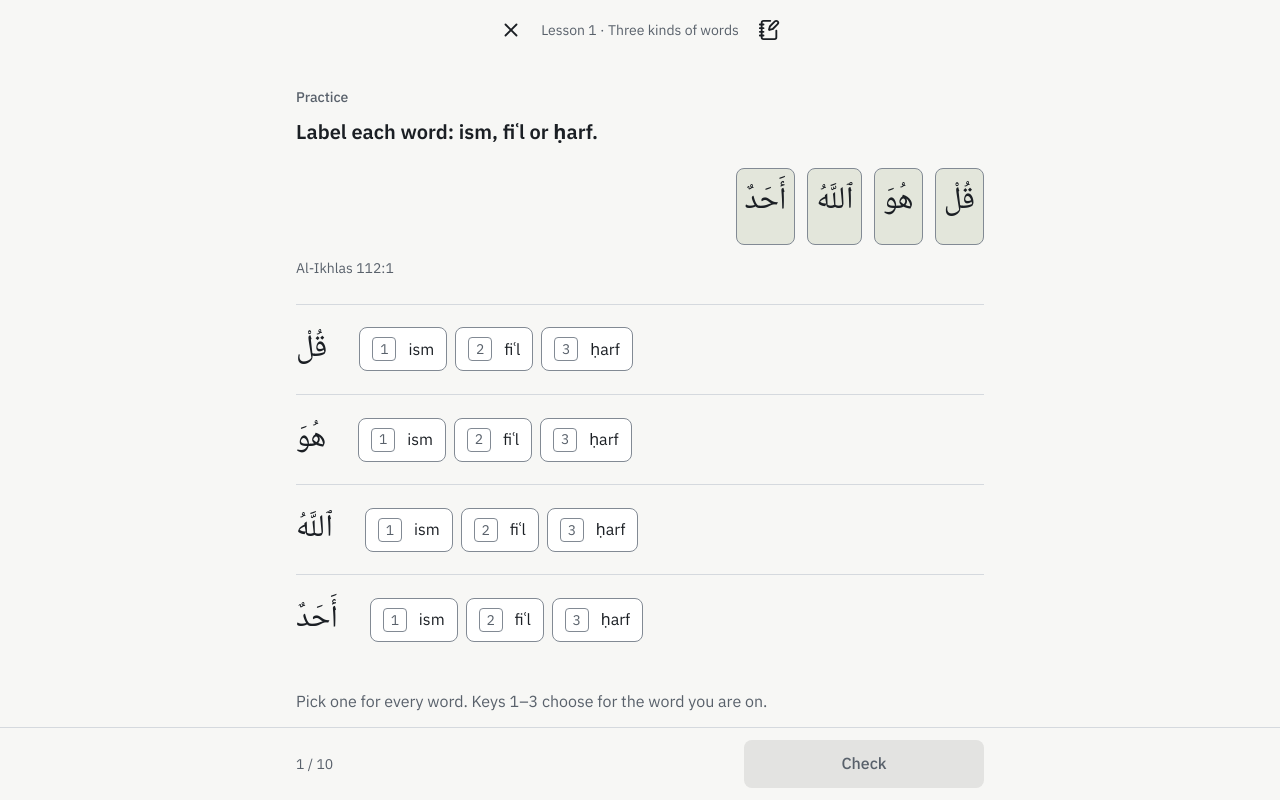
Test: screens › classify: rows are graded one by one
Check: the button "Check" is disabled, box [744,740,984,788]
Click the 1st radio button labelled "1 ism": [403, 349] box [359,327,447,371]
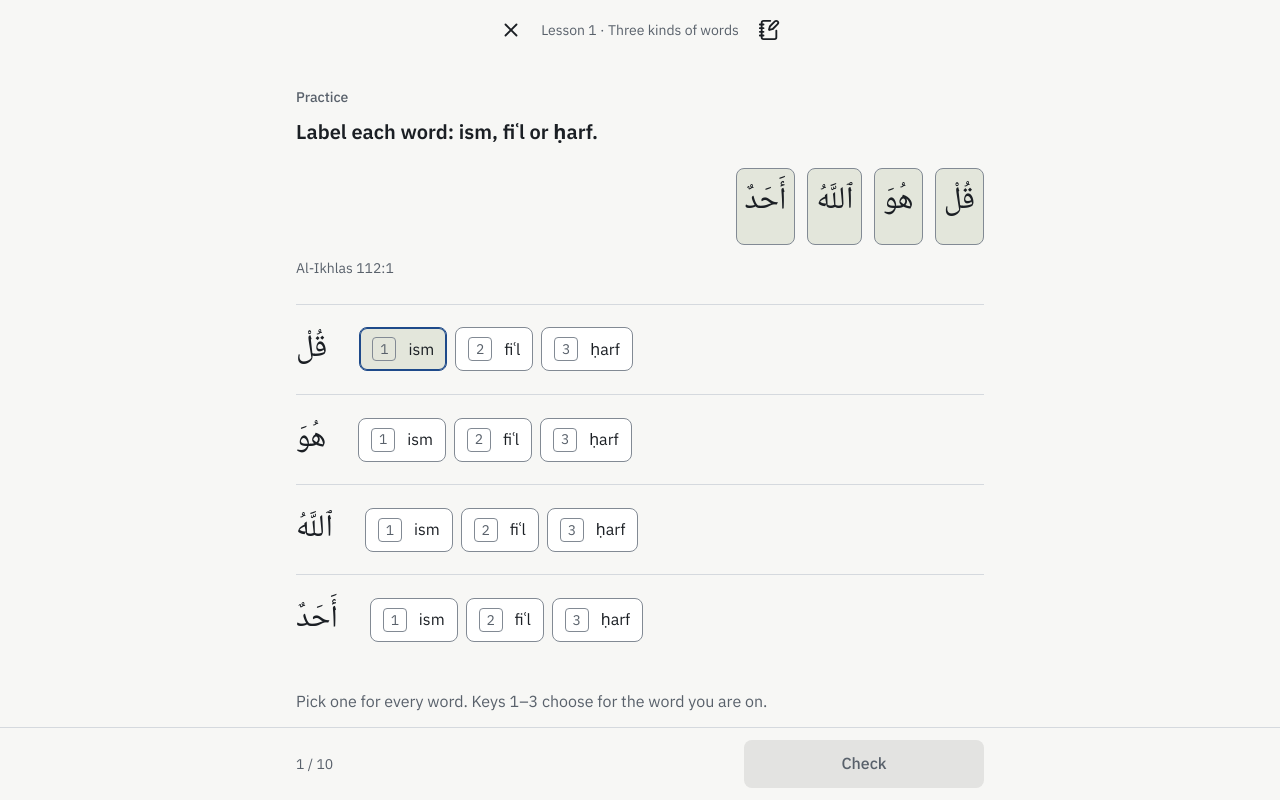
Click the 2nd radio button labelled "1 ism": [402, 440] box [358,418,446,462]
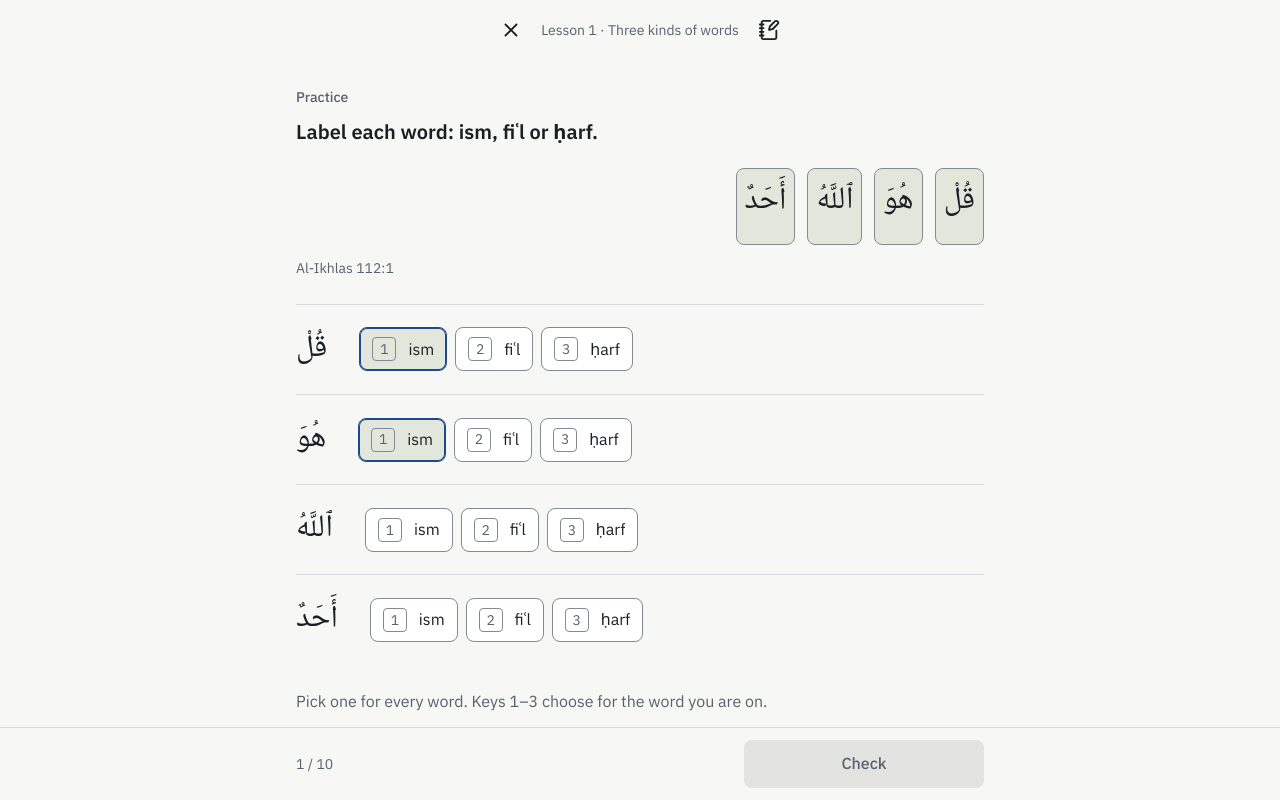
Click the 3rd radio button labelled "1 ism": [409, 530] box [365,508,453,552]
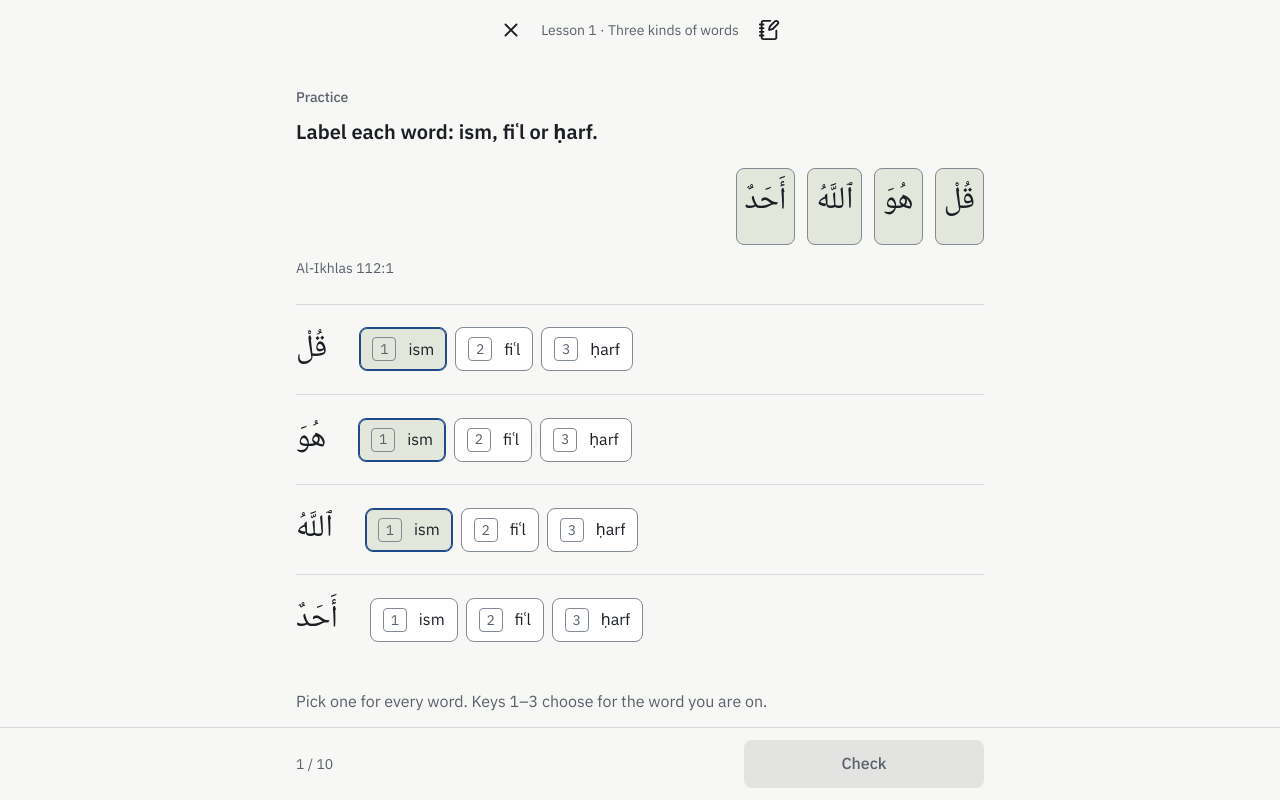
Click the 4th radio button labelled "1 ism": [414, 620] box [370,598,458,642]
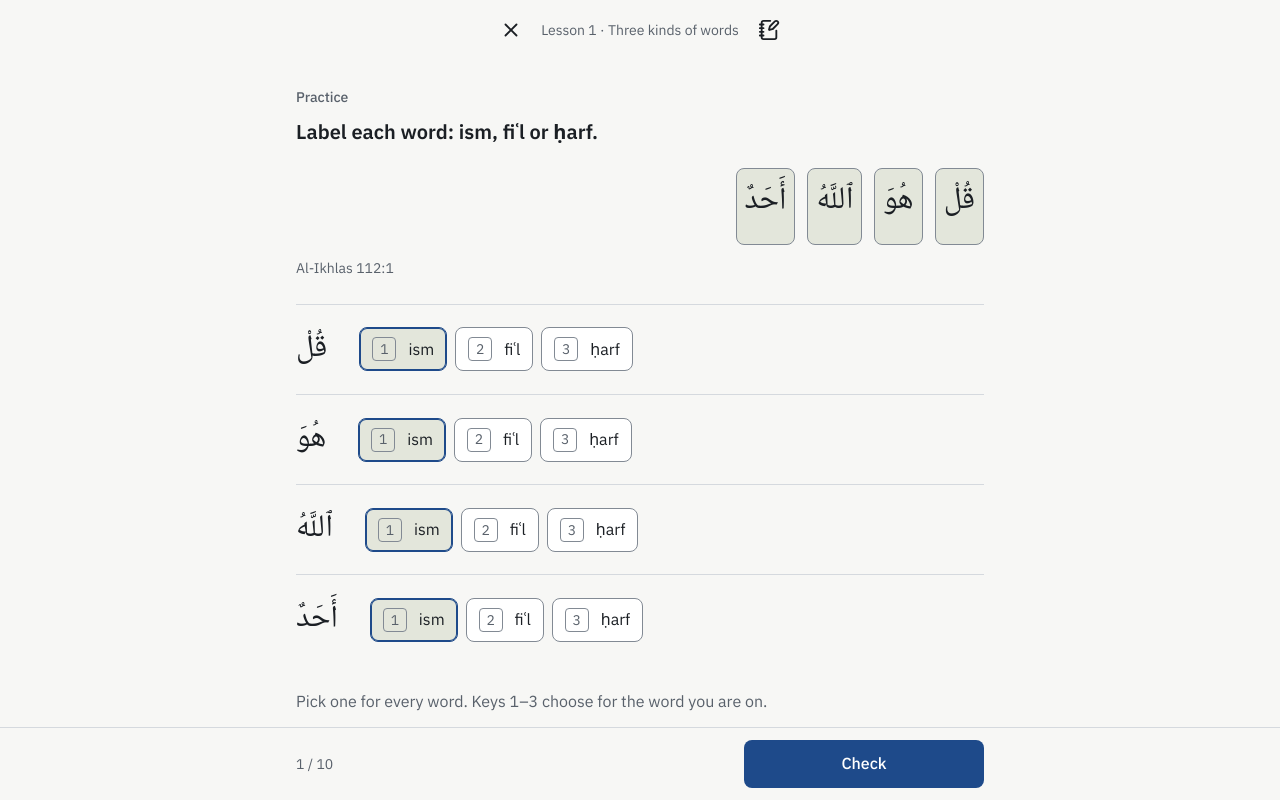
Click the button "Check": [864, 764] box [744,740,984,788]
(page scrolled)
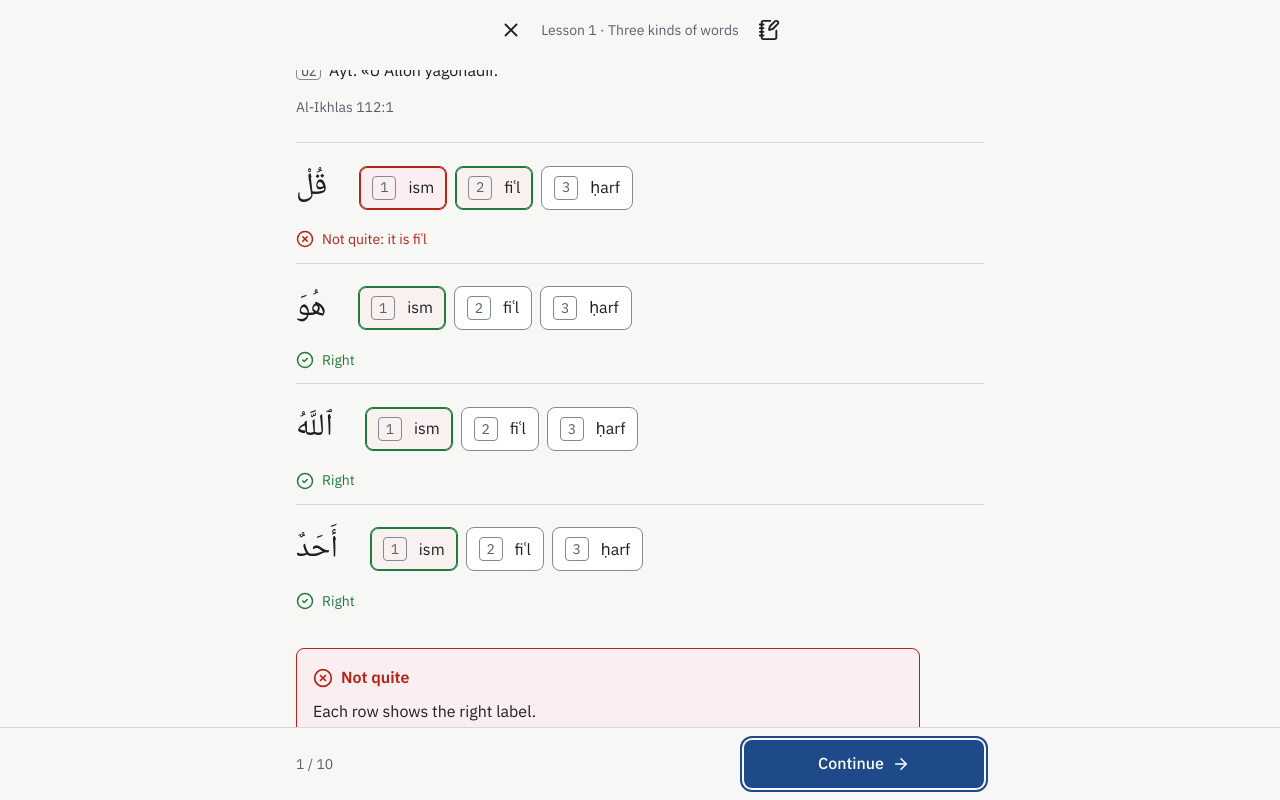
Check: the text "Not quite" is shown, box [341,665,410,691]
